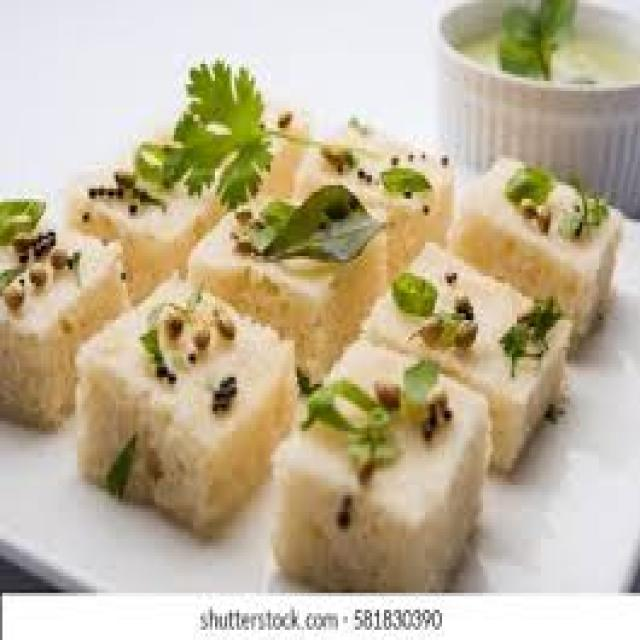DHOKLA: (80, 276, 295, 532), (273, 340, 488, 589), (365, 243, 570, 468), (191, 185, 384, 377), (447, 158, 623, 340), (70, 138, 225, 300), (0, 232, 123, 424)
